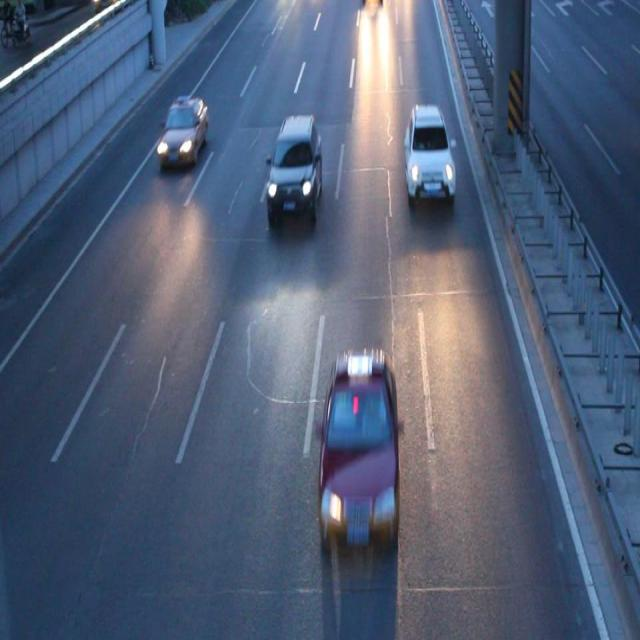car: (318, 349, 401, 545), (264, 113, 322, 224), (402, 104, 456, 204), (155, 96, 208, 166)
